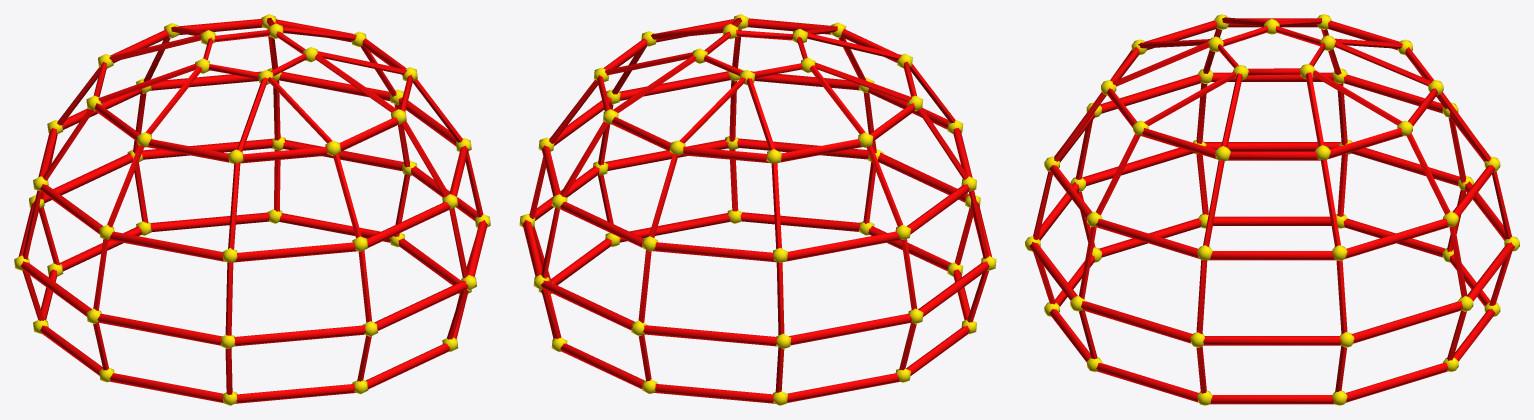
The model's file is jungule.fbx.
3 renders of one model, left to right at view 1: azimuth 30°, elevation 25°; view 2: azimuth 150°, elevation 25°; view 3: azimuth 270°, elevation 25°, orthographic.
Visible parts, largest first — view 1: SM_Game_Piramid_01; view 2: SM_Game_Piramid_01; view 3: SM_Game_Piramid_01.
Boxes of the visible parts, left/top/right/bottom form: SM_Game_Piramid_01: left=14, top=14, right=490, bottom=405; SM_Game_Piramid_01: left=519, top=14, right=996, bottom=405; SM_Game_Piramid_01: left=1025, top=14, right=1519, bottom=405.
Bounding box in the file's own units: 98.65 × 63.13 × 103.
1 material, 1 textured.
